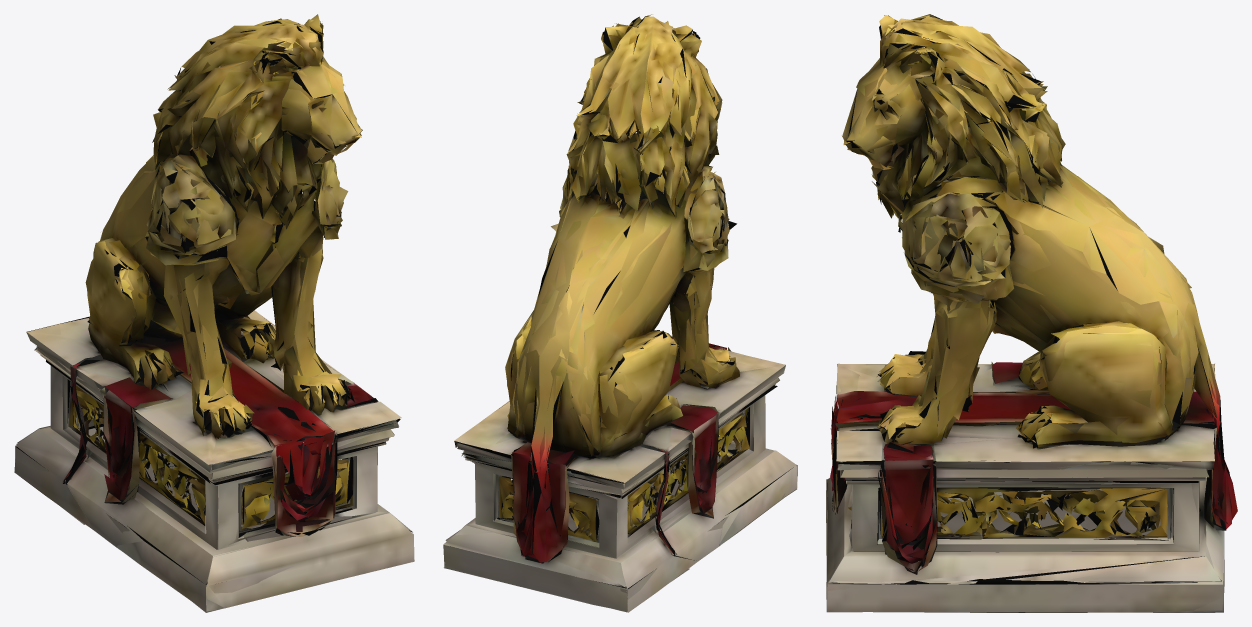
The model's file is town_lion.glb.
3 views of the same model, side by side, from view 1: azimuth 30°, elevation 25°; view 2: azimuth 150°, elevation 25°; view 3: azimuth 270°, elevation 25° (orthographic). The views are drawn at different scales.
Visible parts, largest first — view 1: town_lion; view 2: town_lion; view 3: town_lion.
Part boxes in pixels (left/top/right/bottom): town_lion: left=14, top=14, right=414, bottom=612; town_lion: left=443, top=14, right=797, bottom=612; town_lion: left=826, top=14, right=1237, bottom=612.
Size of the model in its own units: 1.95 by 4.53 by 3.06.
Materials: 1 (1 with a texture image).
